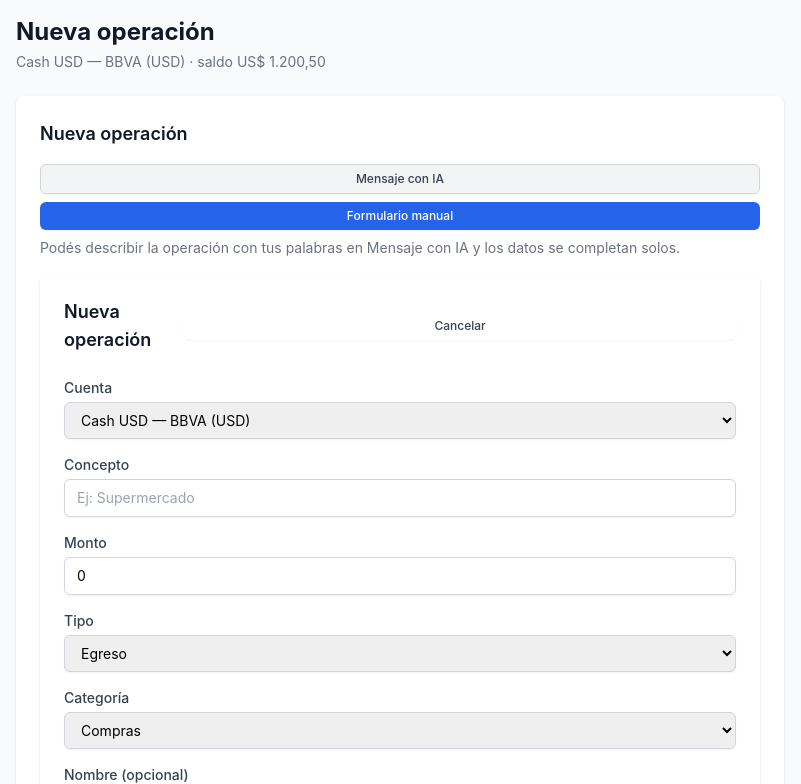
Test: NewOperationPage (tabs IA / manual) › shows a warning when the manual operation fails due to insufficient balance
The width and height of the screenshot is (801, 784).
Type "Compra grande" into the field labelled "Concepto" at [400, 498], box [64,479,736,517]
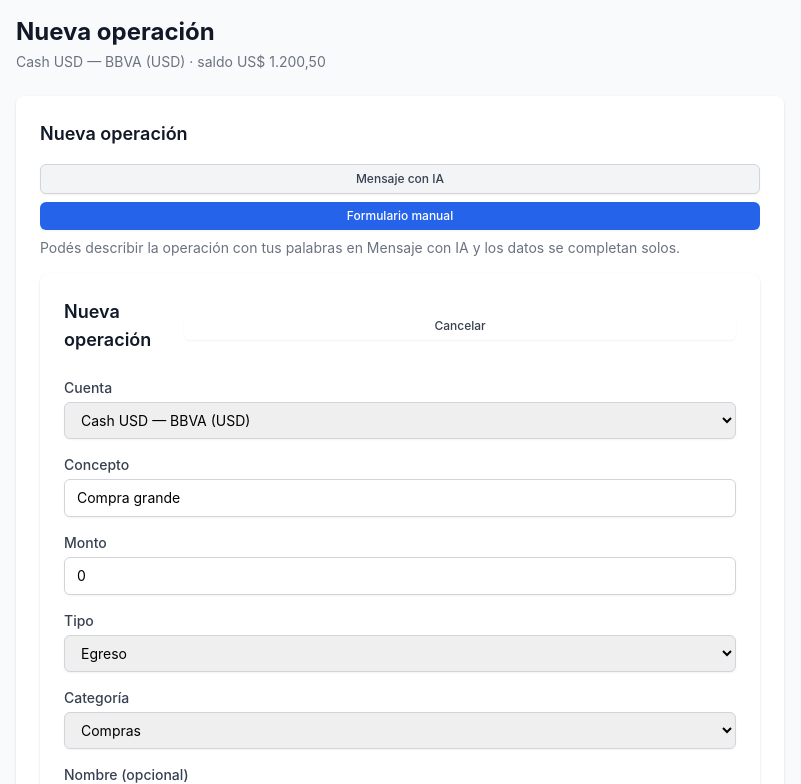
Replace the text in the number field labelled "Monto" with "99999" at [400, 576], box [64,557,736,595]
(page scrolled)
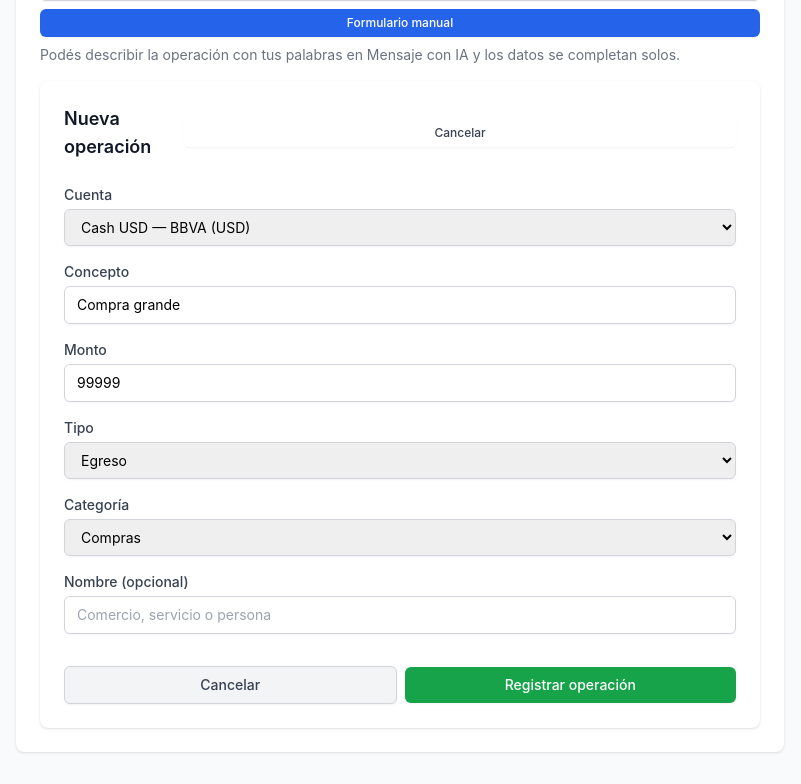
Click the button "Registrar operación" at [570, 685], box [404,667,736,703]
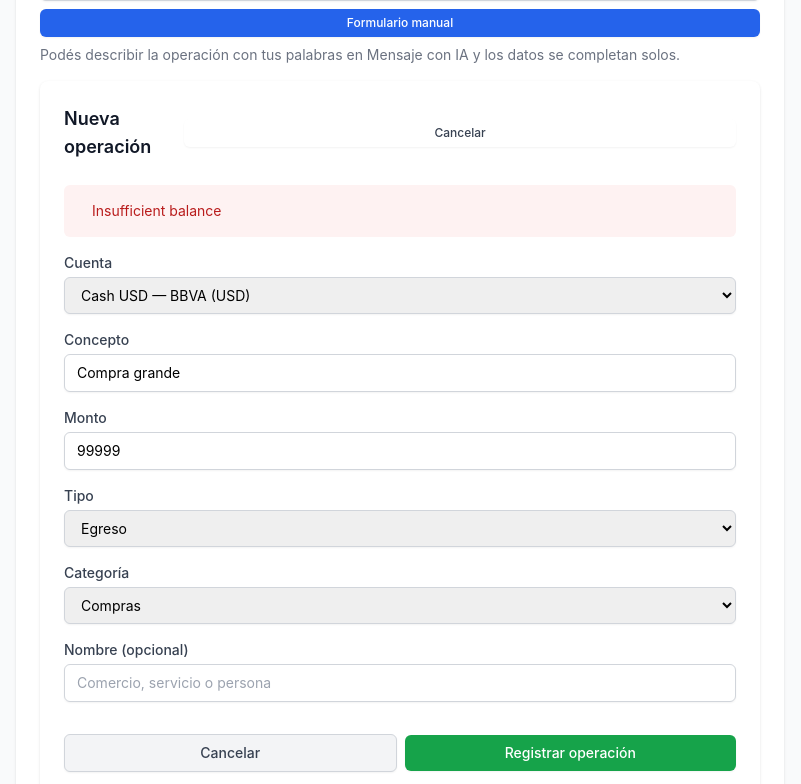
Check: the text "Insufficient balance" is shown, box [92,201,222,221]
